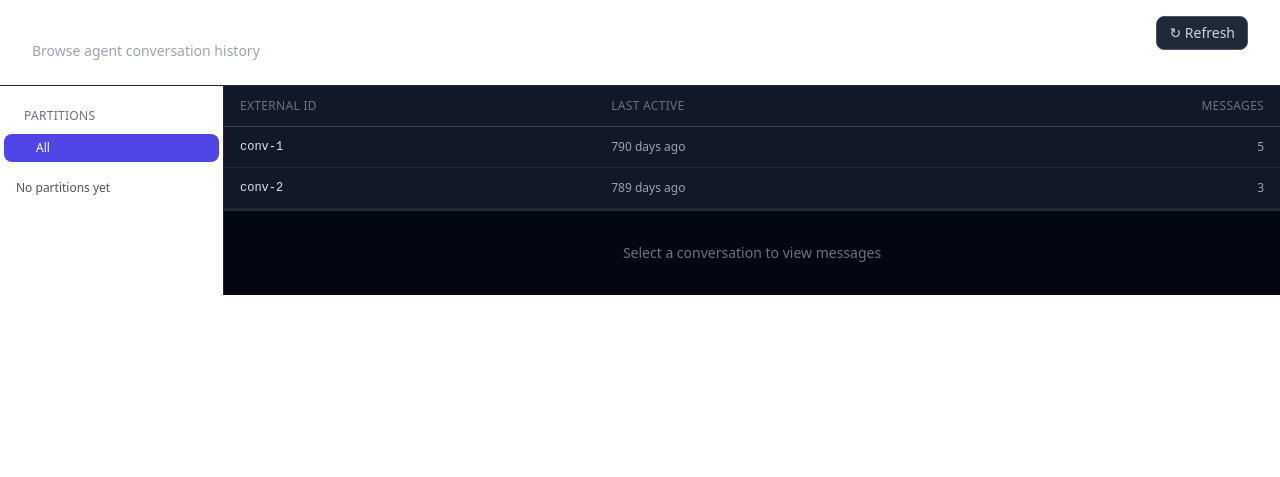
ConversationsPage › loads conversation detail when conversation is clicked
Click the text "conv-1" at (262, 147), box [224, 126, 595, 168]
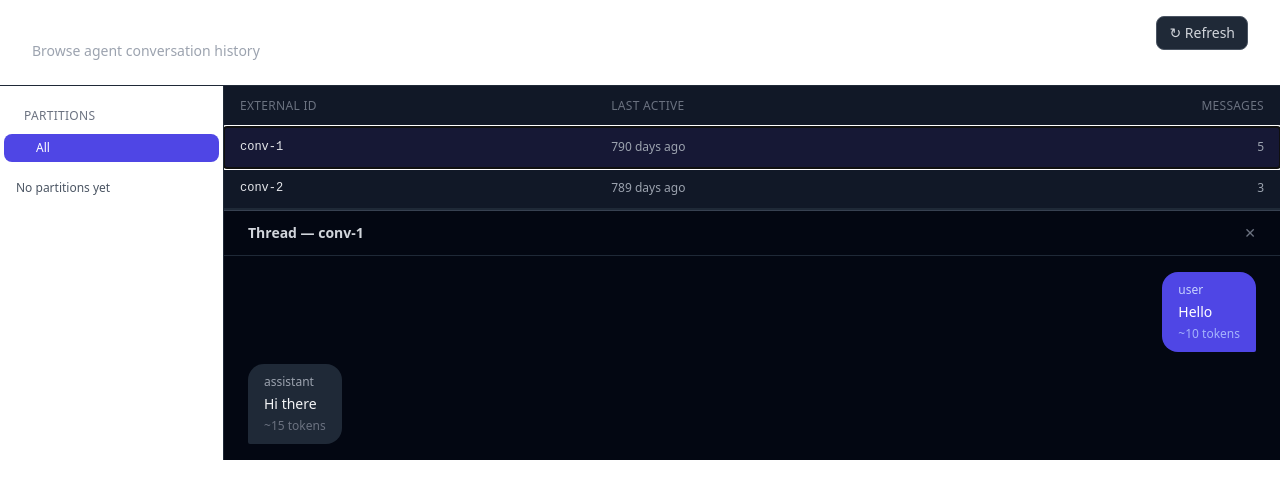
Expected: the text "Hello" is shown, [1178, 302, 1212, 321]
Expected: the text "Hi there" is shown, [264, 394, 317, 413]
